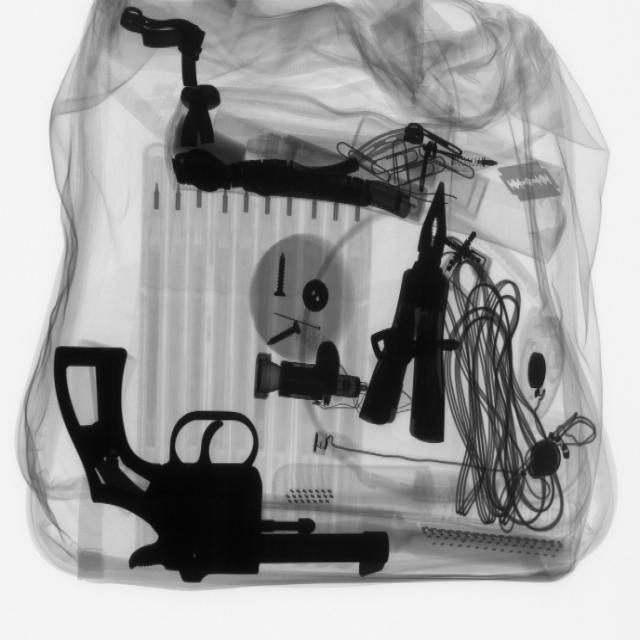BLADE: (495, 156, 570, 210)
GUN: (44, 337, 391, 581)
SCREW: (257, 317, 309, 355), (267, 252, 295, 305)
